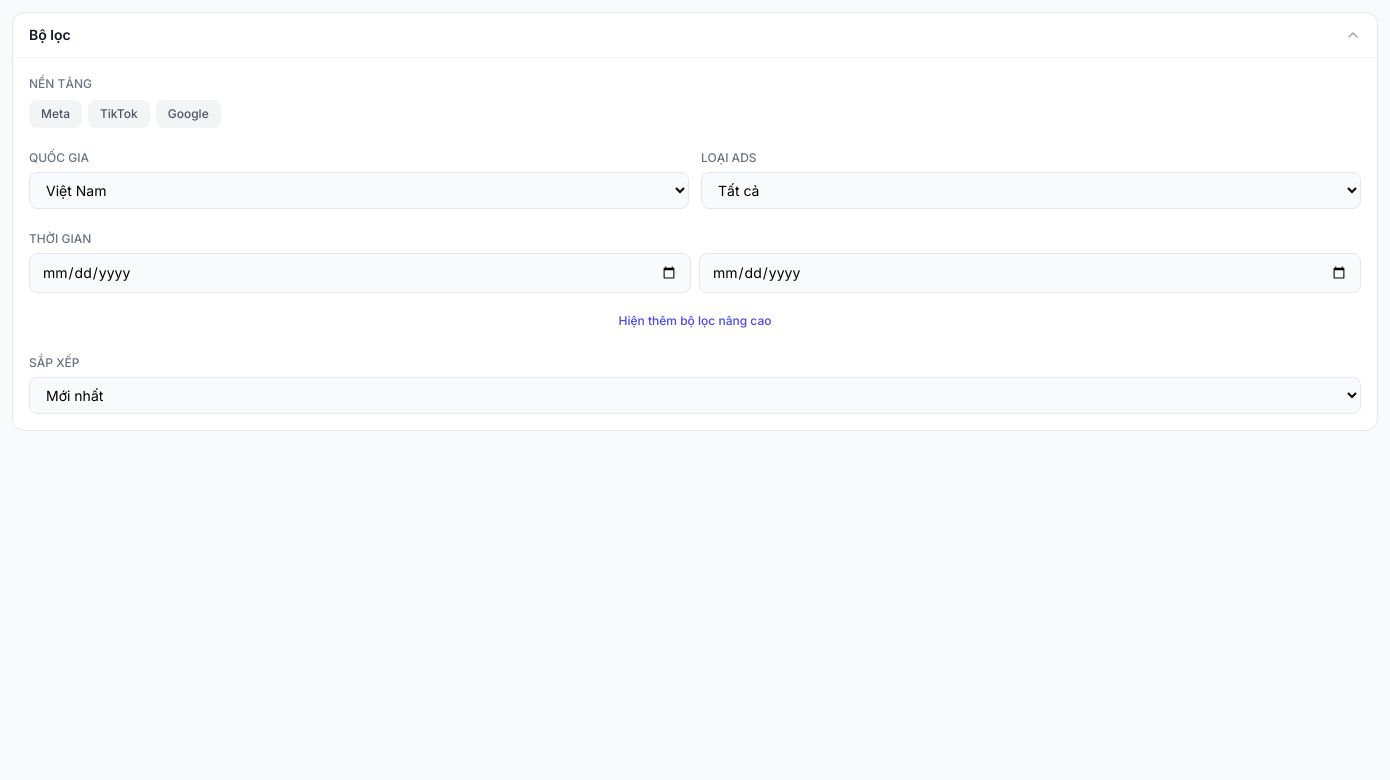
it: FilterPanel › toggles advanced section
The image size is (1390, 780).
Check: the text "Chỉ ads Hot" is not shown
What coordinates should you click on to do the following:
click the button "Hiện thêm bộ lọc nâng cao"
I would click on:
 (695, 321)
Its box is 29,309 -> 1361,333.
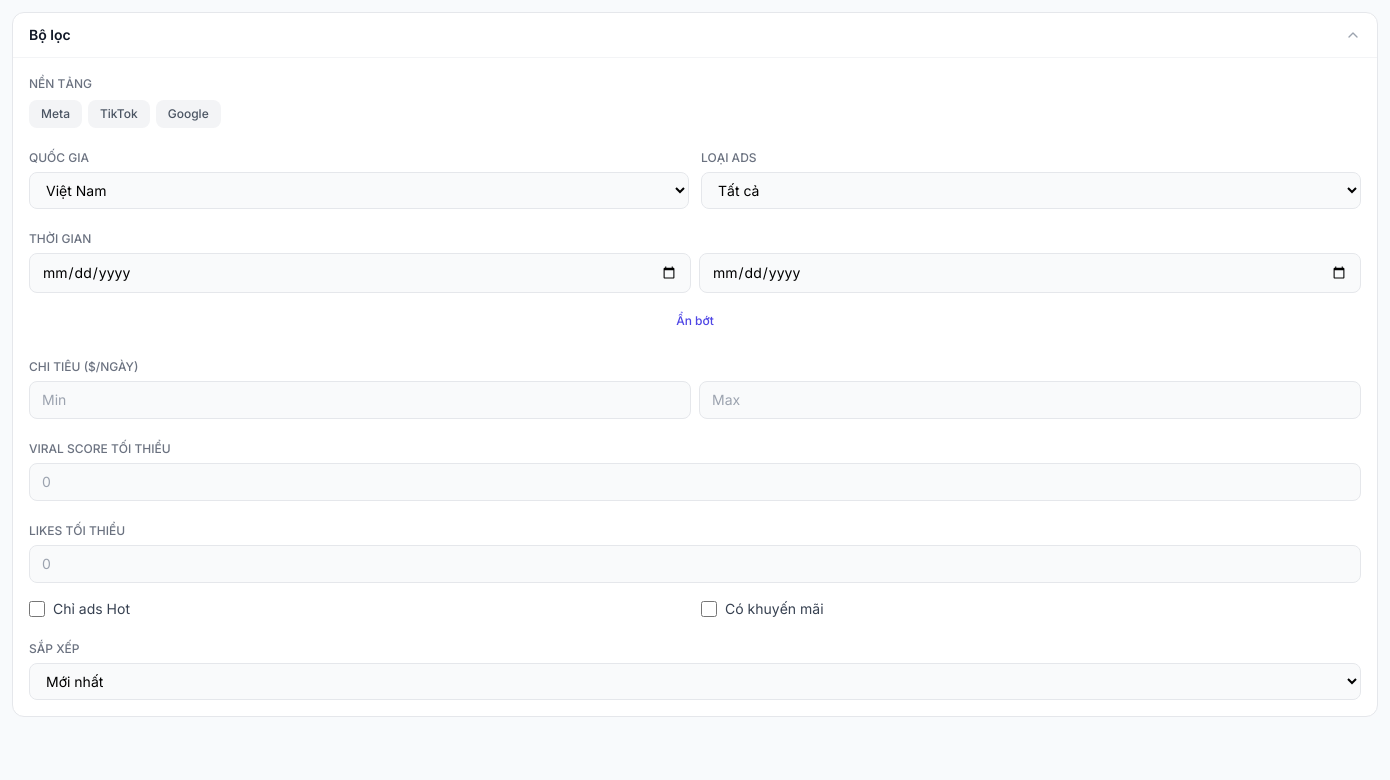
Check: the text "Chỉ ads Hot" is shown, box 53,599 -> 130,619
